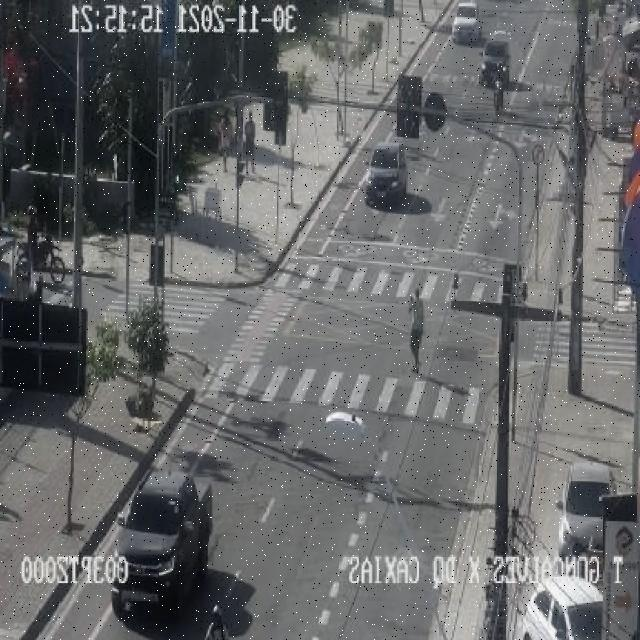Car: (110, 466, 212, 618), (519, 576, 605, 640), (559, 462, 615, 557), (357, 143, 418, 211), (479, 38, 511, 87), (452, 1, 481, 43), (622, 16, 640, 48)
